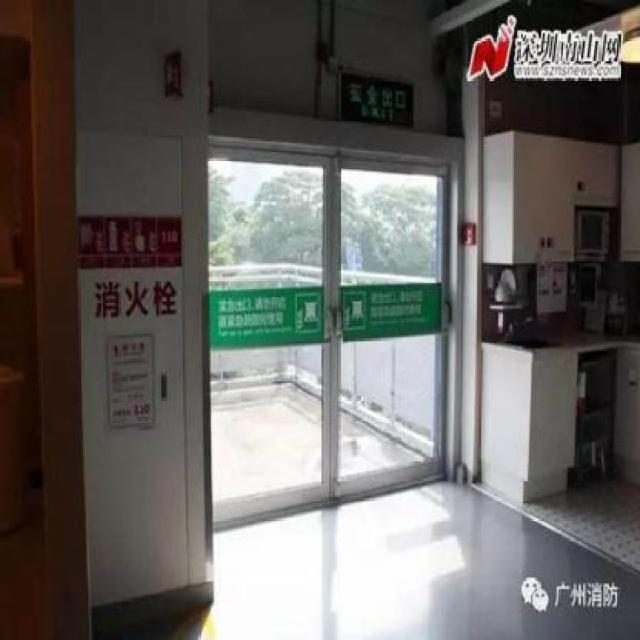exit_sign: (328, 66, 416, 135)
